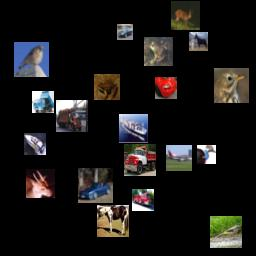airplane: (166, 145, 192, 171)
automobile: (78, 168, 113, 203), (155, 77, 177, 99), (117, 24, 133, 40)
bird: (14, 42, 49, 77), (214, 68, 249, 103), (210, 216, 242, 248), (197, 145, 216, 164)
deer: (171, 1, 200, 30), (26, 169, 55, 198)
frog: (144, 37, 173, 66), (94, 74, 120, 100)
ship: (119, 114, 148, 143), (24, 133, 46, 155)
truck: (56, 100, 88, 132), (124, 144, 156, 176), (32, 91, 54, 113), (132, 189, 154, 211)
